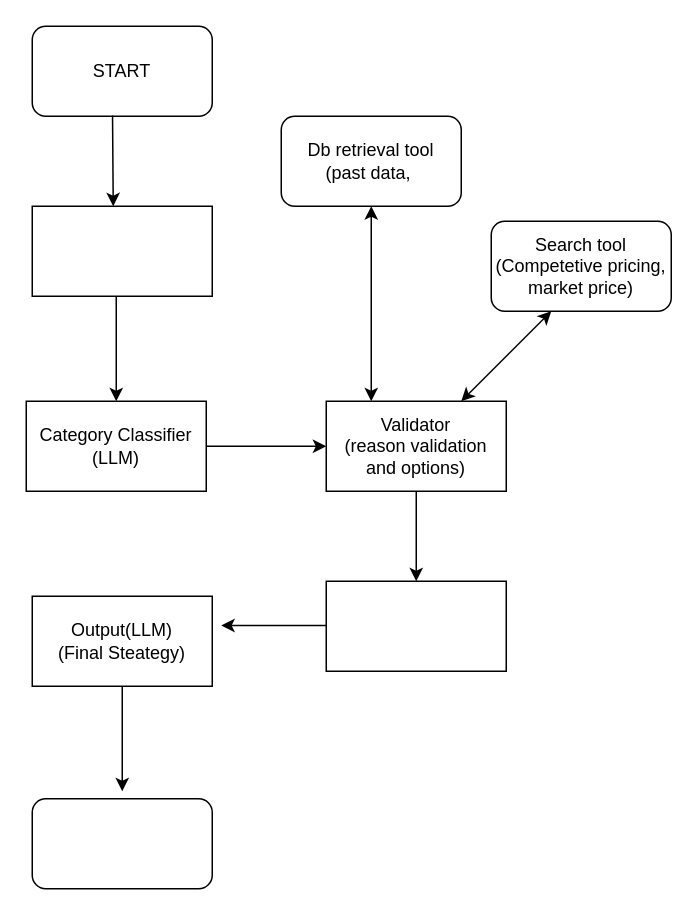
Some shapes in this 698 by 915 pixel diagram are drawn without their labels. Each missing label, with the centre of its shape:
"Analyzer (DB and search results)" belongs at (x=415, y=625).
"Data Parser (LLM)" belongs at (x=121, y=250).
"END" belongs at (x=121, y=843).
